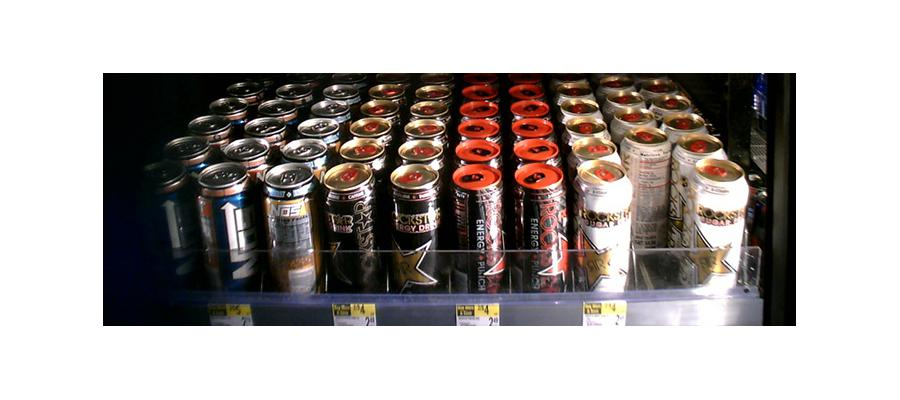bottle: (199, 159, 259, 296), (576, 158, 633, 297), (688, 159, 748, 290), (321, 161, 377, 291), (261, 167, 314, 294), (456, 159, 506, 292), (516, 163, 566, 295), (389, 163, 438, 293), (149, 155, 190, 285)
